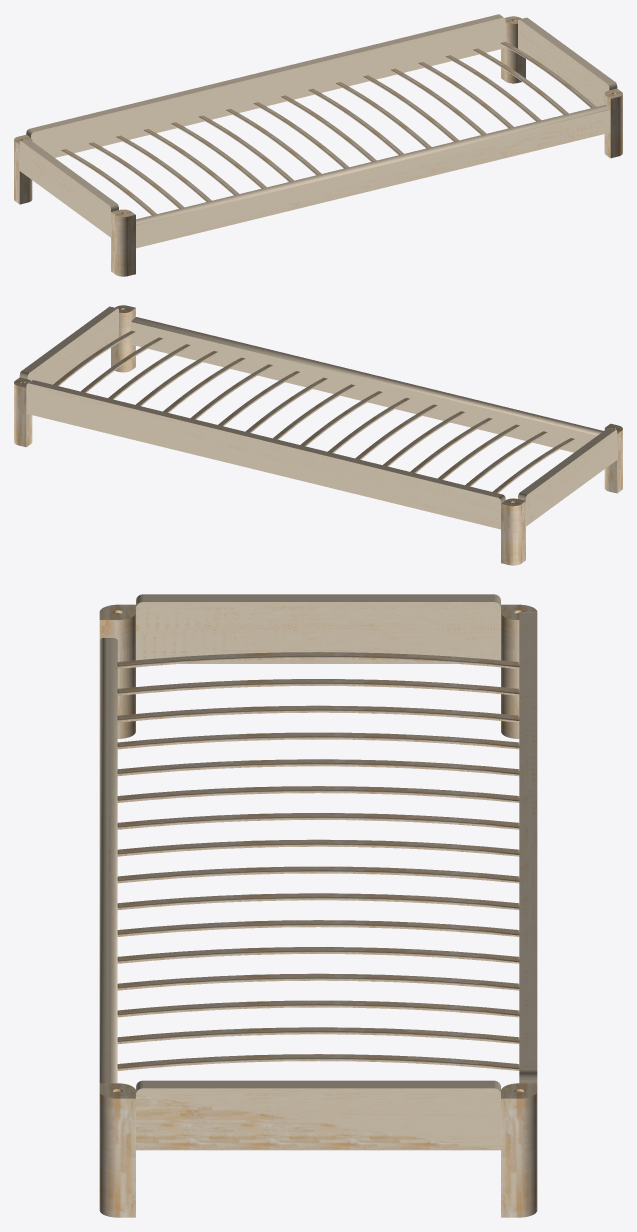
File: UTAKER_bed1.glb
3 renders of one model, top to bottom at view 1: azimuth 30°, elevation 25°; view 2: azimuth 150°, elevation 25°; view 3: azimuth 270°, elevation 25°, orthographic. The views are drawn at different scales.
Parts seen in each view (by area): view 1: Node7; view 2: Node7; view 3: Node7.
Part boxes in pixels (x1,y1,x2,y2): Node7: (14,14,622,276); Node7: (14,305,622,565); Node7: (99,594,537,1217).
Bounding box in the file's own units: 80.71 × 10.04 × 30.24.
Materials: 1 (1 with a texture image).
